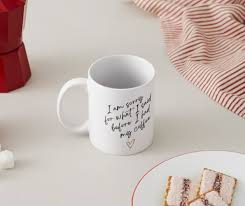mug: (47, 49, 162, 153)
